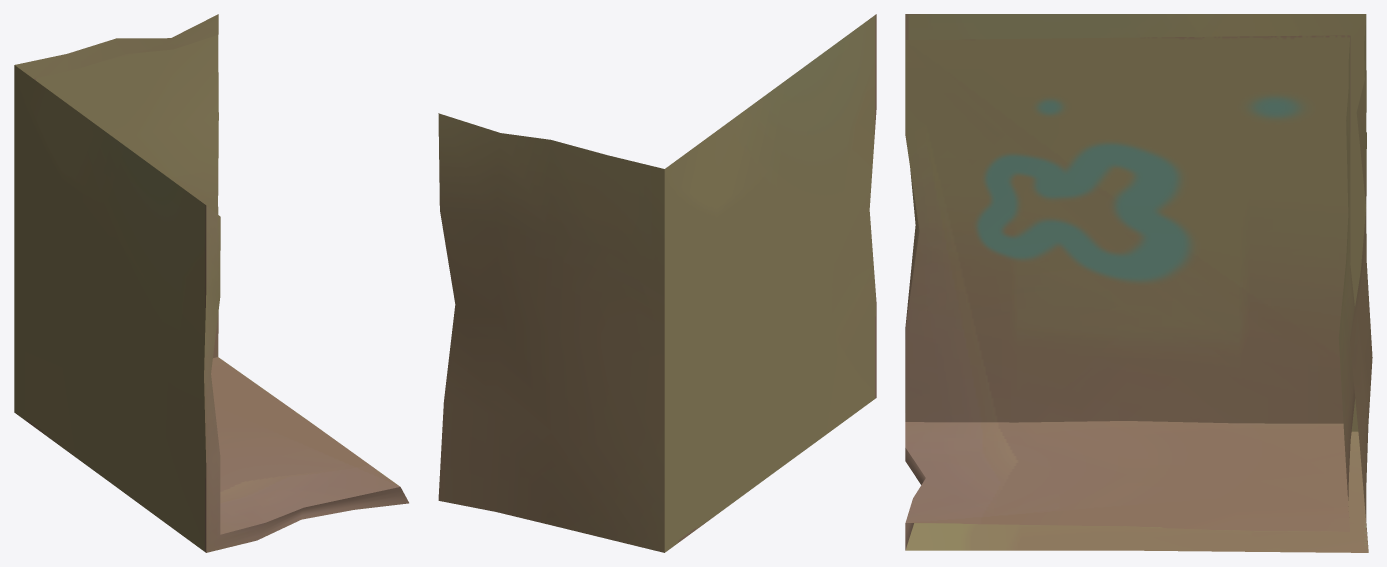
File: box-right2-left.fbx
3 renders of one model, left to right at view 1: azimuth 30°, elevation 25°; view 2: azimuth 150°, elevation 25°; view 3: azimuth 270°, elevation 25°, orthographic. The views are drawn at different scales.
Visible parts, largest first — view 1: box-right2-left; view 2: box-right2-left; view 3: box-right2-left.
Part boxes in pixels (x1,y1,x2,y2): box-right2-left: (14,14,408,552); box-right2-left: (438,14,876,552); box-right2-left: (905,14,1372,552).
Size of the model in its own units: 102 by 168 by 168.
